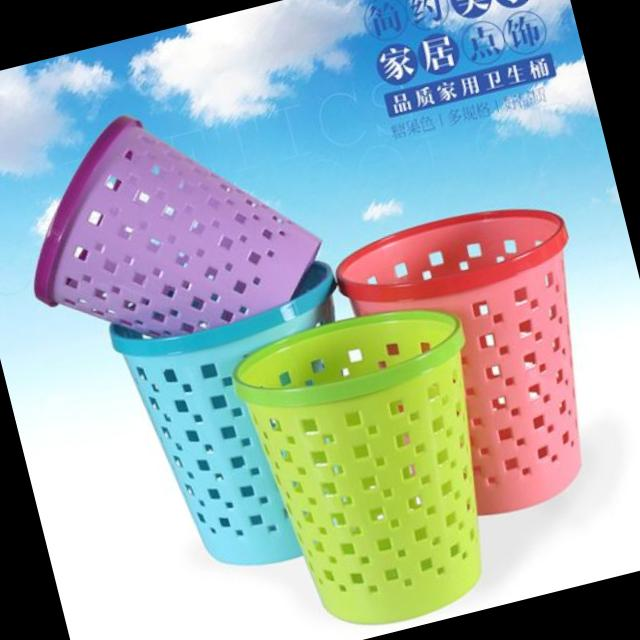dustbin: (210, 287, 532, 640), (326, 183, 634, 544), (0, 69, 344, 380), (93, 266, 400, 594)
